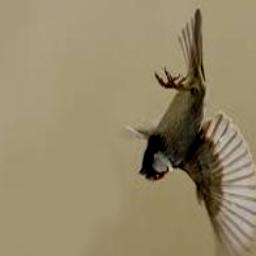Sparrow: (127, 10, 256, 256)
